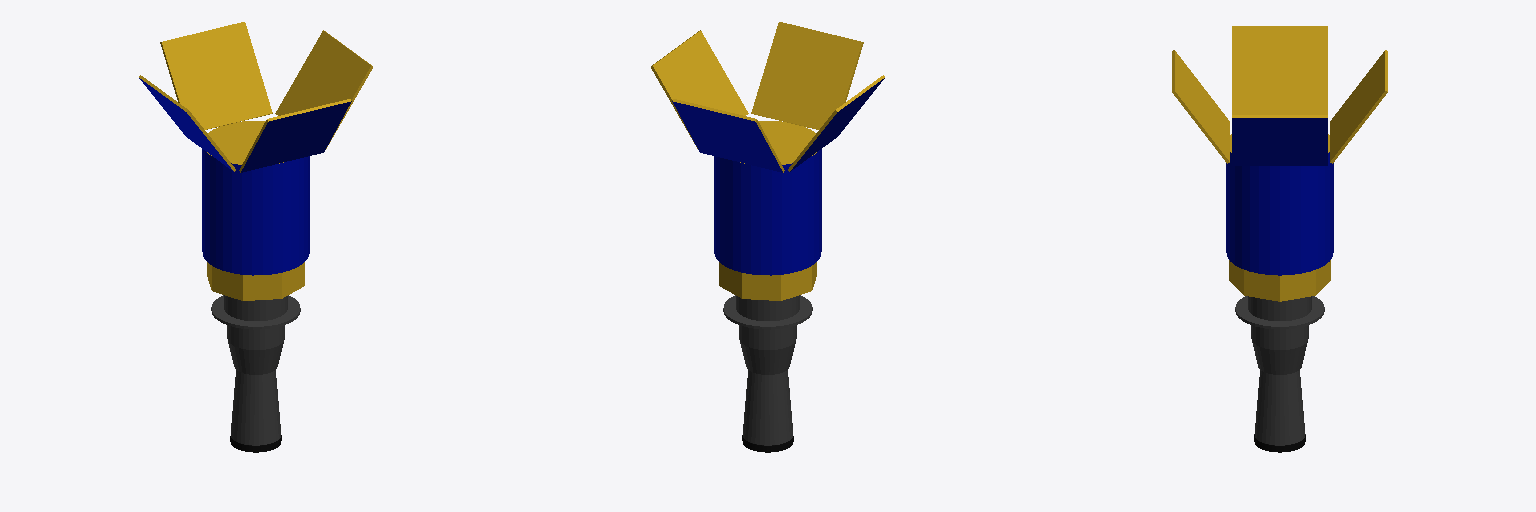
The model's file is dsp.obj.
The picture shows the model from 3 angles: view 1: azimuth 30°, elevation 25°; view 2: azimuth 150°, elevation 25°; view 3: azimuth 270°, elevation 25°; orthographic projection.
Parts seen in each view (by area): view 1: DSP_Cylinder, Cube.001_Cube.002, Cube_Cube.002, Cube.003_Cube.002, Cylinder.006_Cylinder.005, Cylinder.001_Cylinder.002, Cube.002, Cylinder.002_Cylinder.004, Cylinder.005_Cylinder.003, Cylinder.004, Cylinder.003_Cylinder.004; view 2: DSP_Cylinder, Cube.003_Cube.002, Cube_Cube.002, Cube.001_Cube.002, Cylinder.006_Cylinder.005, Cylinder.001_Cylinder.002, Cube.002, Cylinder.002_Cylinder.004, Cylinder.005_Cylinder.003, Cylinder.004, Cylinder.003_Cylinder.004; view 3: DSP_Cylinder, Cube.002, Cube_Cube.002, Cylinder.006_Cylinder.005, Cube.001_Cube.002, Cube.003_Cube.002, Cylinder.001_Cylinder.002, Cylinder.002_Cylinder.004, Cylinder.005_Cylinder.003, Cylinder.004, Cylinder.003_Cylinder.004.
Part boxes in pixels (bbox=[...]): DSP_Cylinder: bbox=[202, 121, 309, 275]; Cube.001_Cube.002: bbox=[160, 22, 272, 129]; Cube_Cube.002: bbox=[275, 30, 372, 148]; Cube.003_Cube.002: bbox=[239, 99, 351, 172]; Cylinder.006_Cylinder.005: bbox=[231, 370, 280, 445]; Cylinder.001_Cylinder.002: bbox=[207, 262, 304, 300]; Cube.002: bbox=[139, 75, 235, 171]; Cylinder.002_Cylinder.004: bbox=[224, 295, 287, 320]; Cylinder.005_Cylinder.003: bbox=[228, 339, 284, 374]; Cylinder.004: bbox=[227, 325, 284, 349]; Cylinder.003_Cylinder.004: bbox=[211, 295, 300, 329]; DSP_Cylinder: bbox=[714, 121, 821, 275]; Cube.003_Cube.002: bbox=[751, 22, 863, 129]; Cube_Cube.002: bbox=[651, 30, 748, 148]; Cube.001_Cube.002: bbox=[672, 99, 784, 172]; Cylinder.006_Cylinder.005: bbox=[743, 370, 792, 445]; Cylinder.001_Cylinder.002: bbox=[719, 262, 816, 300]; Cube.002: bbox=[788, 75, 884, 171]; Cylinder.002_Cylinder.004: bbox=[736, 295, 799, 320]; Cylinder.005_Cylinder.003: bbox=[739, 339, 795, 374]; Cylinder.004: bbox=[739, 325, 796, 349]; Cylinder.003_Cylinder.004: bbox=[723, 295, 812, 329]; DSP_Cylinder: bbox=[1226, 134, 1333, 275]; Cube.002: bbox=[1232, 26, 1327, 114]; Cube_Cube.002: bbox=[1232, 115, 1327, 165]; Cylinder.006_Cylinder.005: bbox=[1254, 370, 1305, 445]; Cube.001_Cube.002: bbox=[1330, 50, 1387, 163]; Cube.003_Cube.002: bbox=[1172, 50, 1229, 163]; Cylinder.001_Cylinder.002: bbox=[1229, 260, 1330, 301]; Cylinder.002_Cylinder.004: bbox=[1248, 296, 1311, 320]; Cylinder.005_Cylinder.003: bbox=[1252, 341, 1307, 374]; Cylinder.004: bbox=[1251, 325, 1308, 349]; Cylinder.003_Cylinder.004: bbox=[1235, 296, 1324, 329].
Bounding box in the file's own units: 4.92 × 9.34 × 4.92.